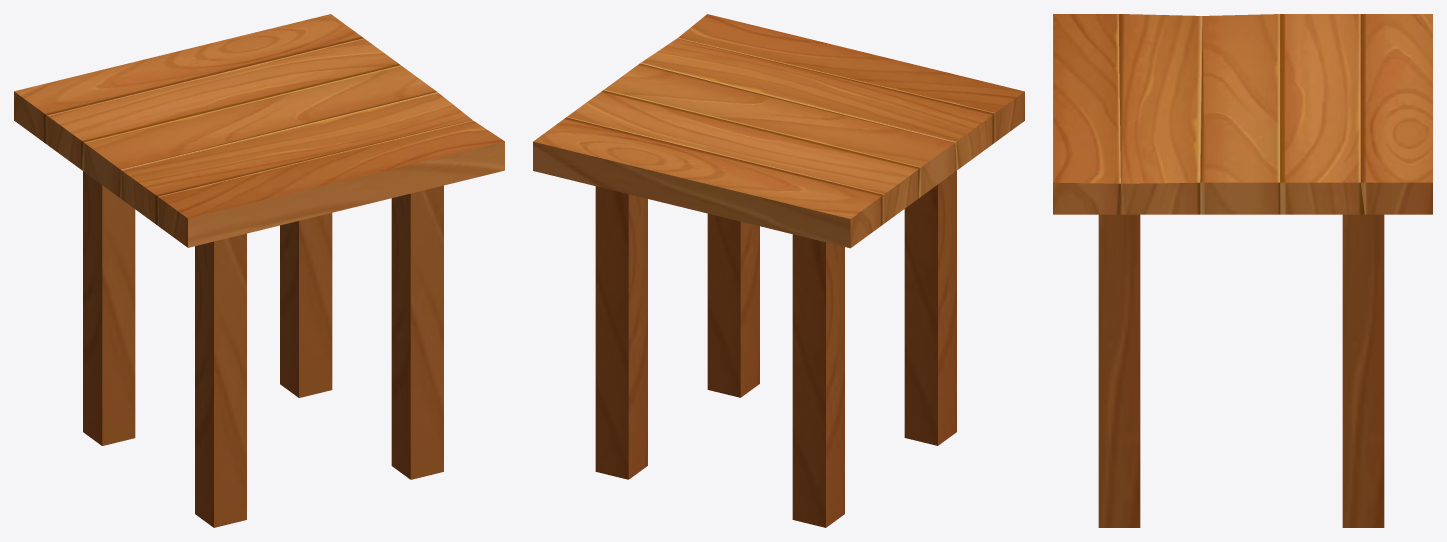
The model's file is MesaPequeña.fbx.
3 views of the same model, side by side, from view 1: azimuth 30°, elevation 25°; view 2: azimuth 150°, elevation 25°; view 3: azimuth 270°, elevation 25° (orthographic). The views are drawn at different scales.
Parts seen in each view (by area): view 1: MesaPequeña; view 2: MesaPequeña; view 3: MesaPequeña.
Part boxes in pixels (left/top/right/bottom): MesaPequeña: left=14, top=14, right=504, bottom=527; MesaPequeña: left=533, top=14, right=1024, bottom=527; MesaPequeña: left=1053, top=14, right=1432, bottom=527.
Bounding box in the file's own units: 100 × 101 × 95.11.
